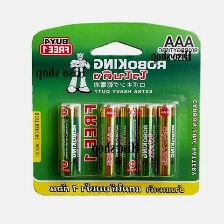battery: (56, 103, 81, 179), (96, 103, 121, 178), (116, 101, 140, 179), (136, 101, 160, 178), (155, 102, 177, 178)
book: (29, 20, 205, 199)
